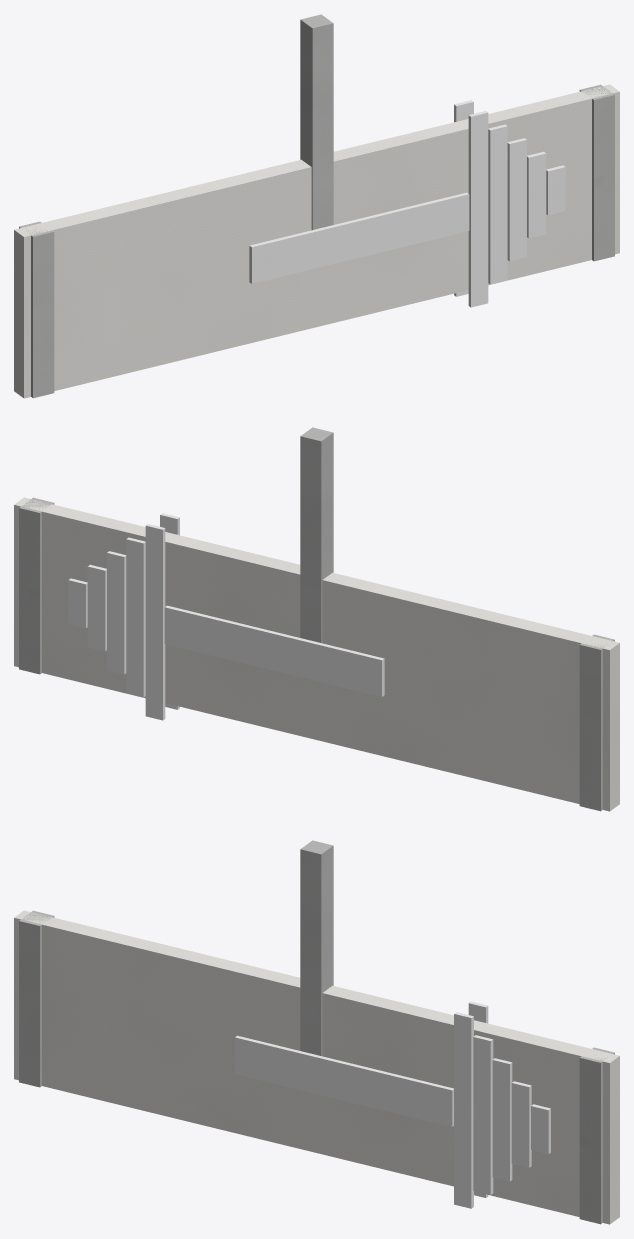
Rendered from sign.gltf.
3 views of the same model, one above another, from view 1: azimuth 30°, elevation 25°; view 2: azimuth 150°, elevation 25°; view 3: azimuth 330°, elevation 25° (orthographic).
Visible parts, largest first — view 1: jx_sign; view 2: jx_sign; view 3: jx_sign.
Boxes of the visible parts, x1,y1,x2,y2 form: jx_sign: [14, 14, 619, 398]; jx_sign: [14, 427, 619, 811]; jx_sign: [14, 840, 619, 1224].
Size of the model in its own units: 1.7 by 0.86 by 0.084.
3 materials, 3 textured.
